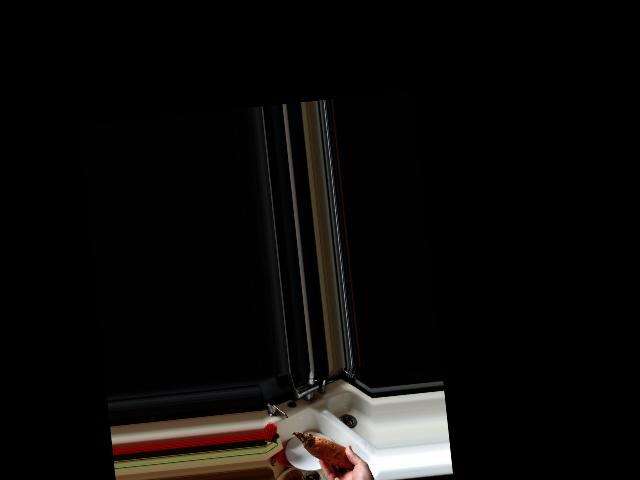sweet_potato: (290, 424, 360, 479)
